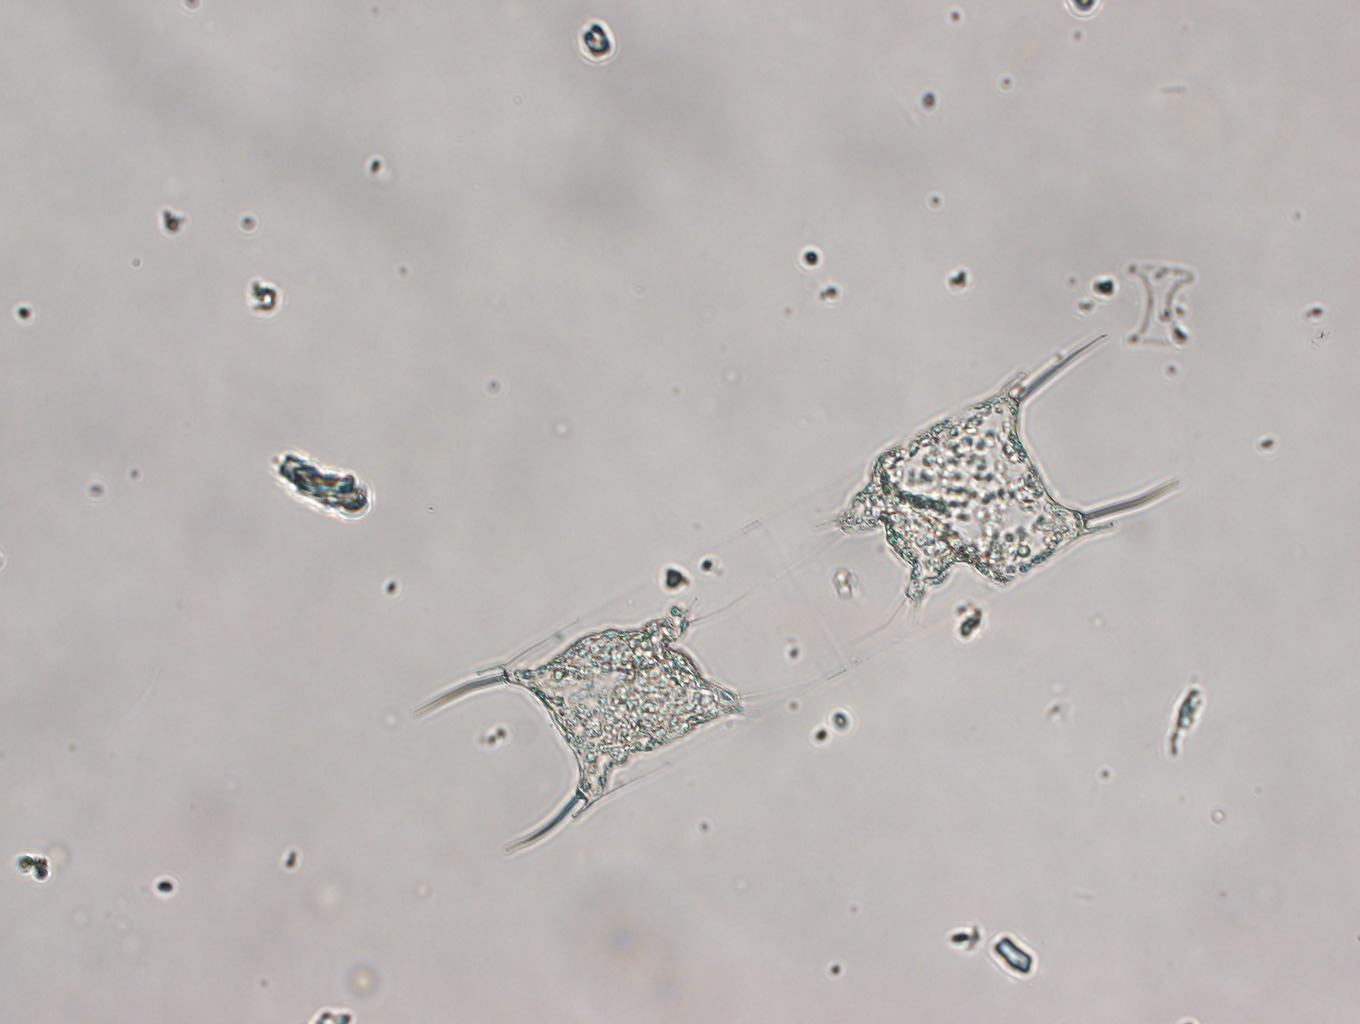biddulphia: (411, 315, 1184, 855)
